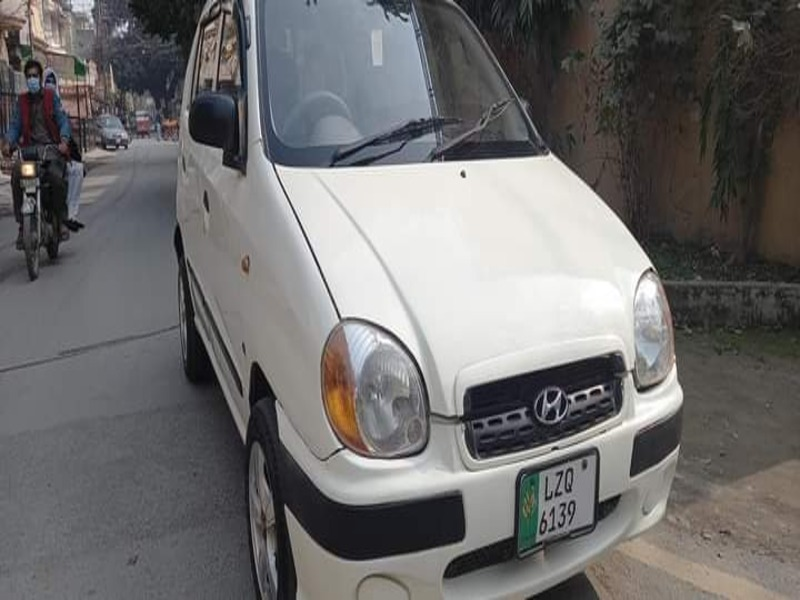License Plate: (513, 447, 604, 560)
